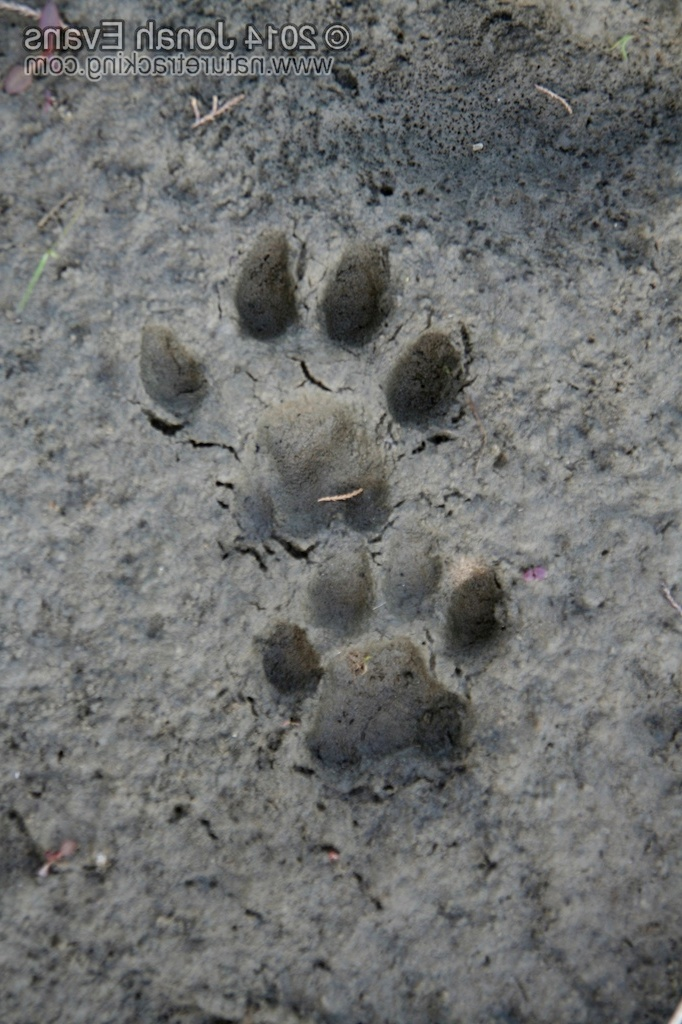lynx: (109, 211, 544, 808)
